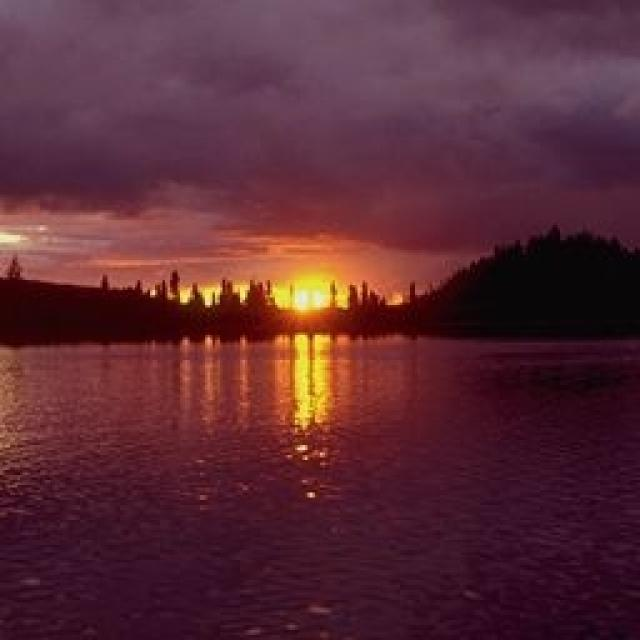light: (288, 268, 343, 316)
